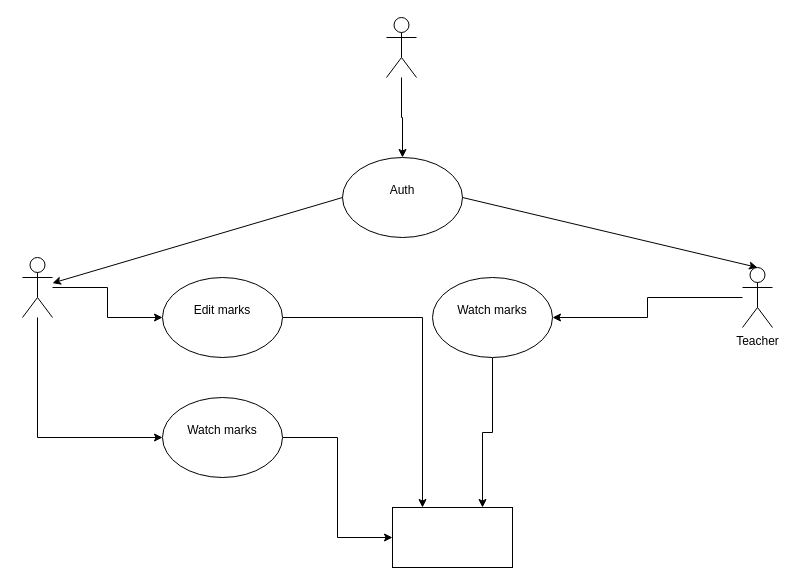
Some shapes in this 796 by 585 pixel diagram are drawn without their labels. Each missing label, with the box of its shape:
Server: (392, 506, 512, 568)
Student: (22, 256, 52, 318)
User: (386, 16, 416, 78)
